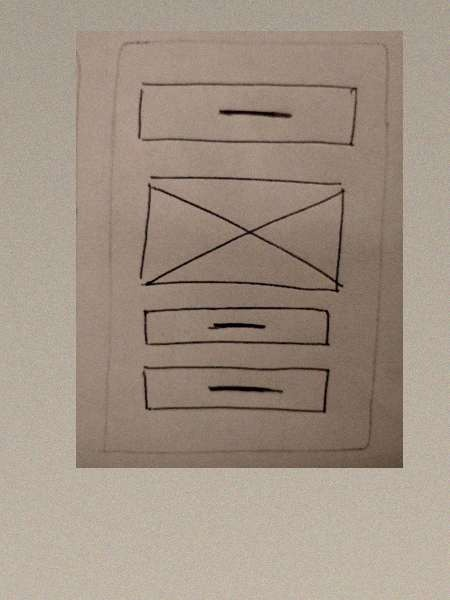button: (134, 74, 360, 152), (137, 360, 335, 416), (141, 302, 337, 352)
image: (135, 169, 348, 298)
